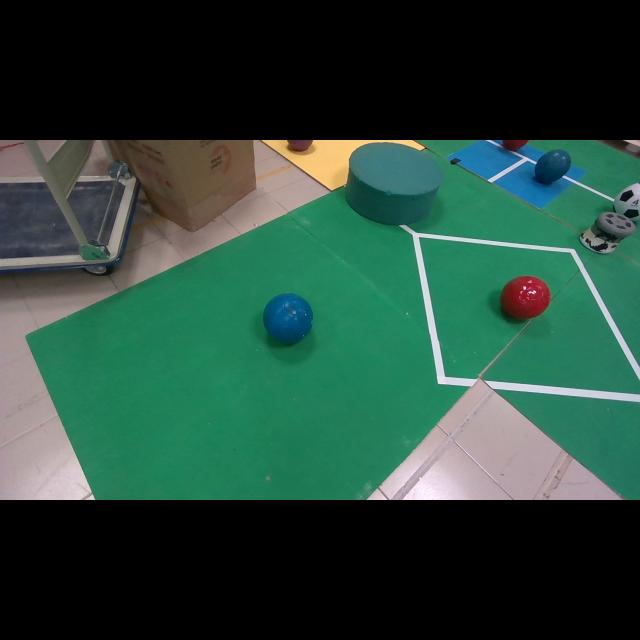B: (262, 292, 312, 342), (535, 150, 571, 184)
R: (500, 276, 551, 318)
